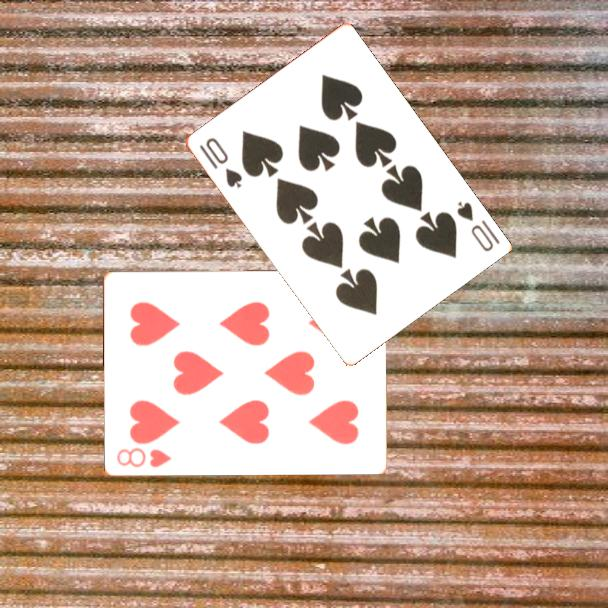h08: (114, 444, 174, 470)
s10: (195, 134, 245, 191), (453, 198, 503, 255)
